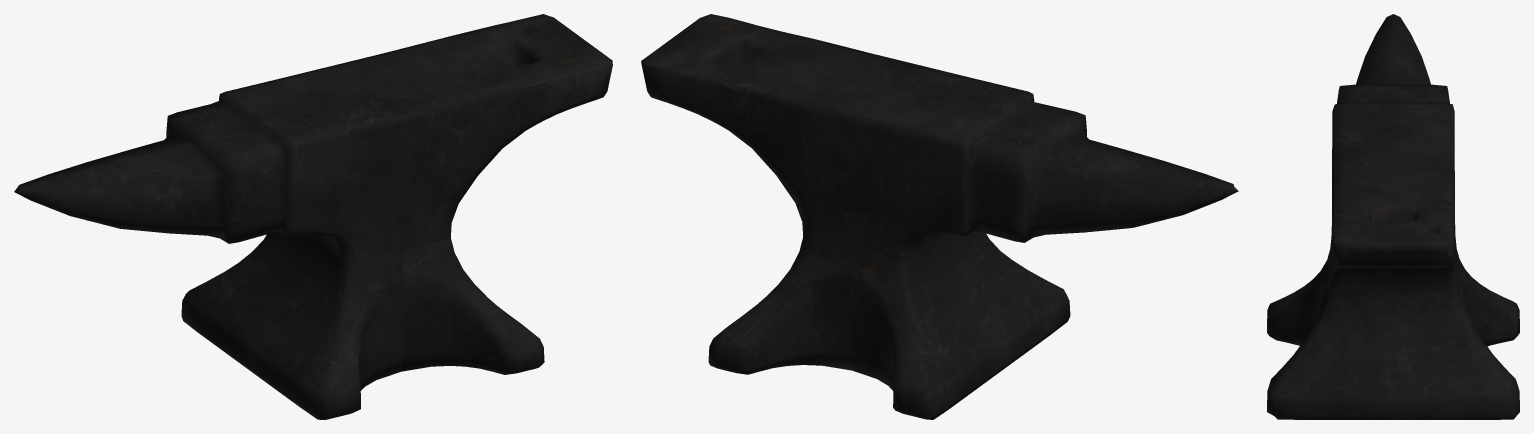
File: yunke.glb
3 renders of one model, left to right at view 1: azimuth 30°, elevation 25°; view 2: azimuth 150°, elevation 25°; view 3: azimuth 270°, elevation 25°, orthographic. The views are drawn at different scales.
Parts seen in each view (by area): view 1: ANVIL LOW POLI; view 2: ANVIL LOW POLI; view 3: ANVIL LOW POLI.
Boxes of the visible parts, x1,y1,x2,y2 form: ANVIL LOW POLI: [14, 14, 612, 419]; ANVIL LOW POLI: [641, 14, 1238, 419]; ANVIL LOW POLI: [1267, 14, 1519, 419].
Size of the model in its own units: 5 by 2.13 by 2.2.
Materials: 1 (1 with a texture image).
